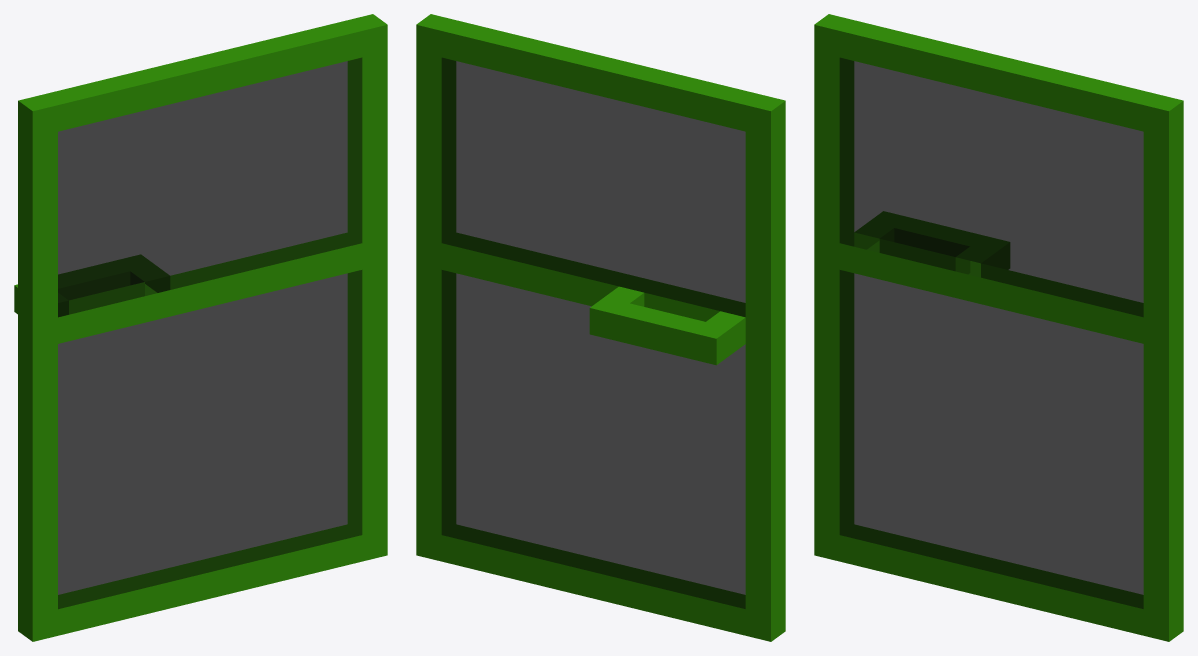
File: RiotShield.fbx
The picture shows the model from 3 angles, left to right: view 1: azimuth 30°, elevation 25°; view 2: azimuth 150°, elevation 25°; view 3: azimuth 330°, elevation 25°; orthographic projection.
Visible parts, largest first — view 1: Shield; view 2: Shield; view 3: Shield.
Part boxes in pixels (x1,y1,x2,y2): Shield: [14, 14, 387, 641]; Shield: [416, 14, 785, 641]; Shield: [814, 14, 1183, 641].
Bounding box in the file's own units: 140 × 30 × 200.
